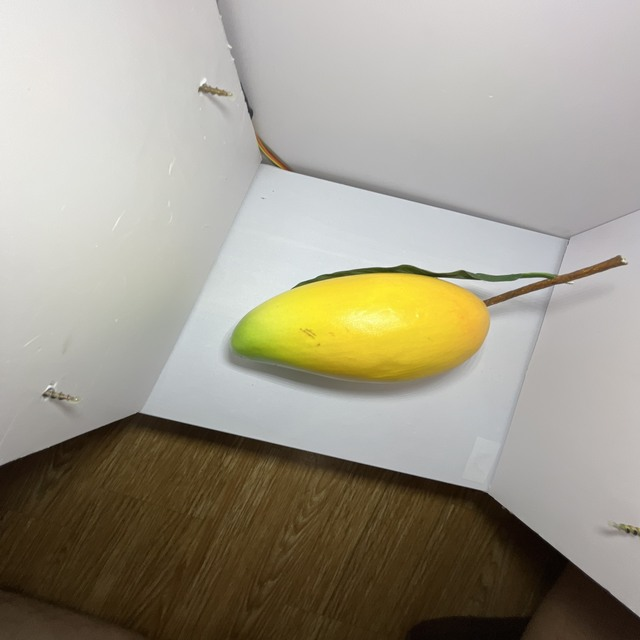Xoai: (217, 254, 509, 404)
